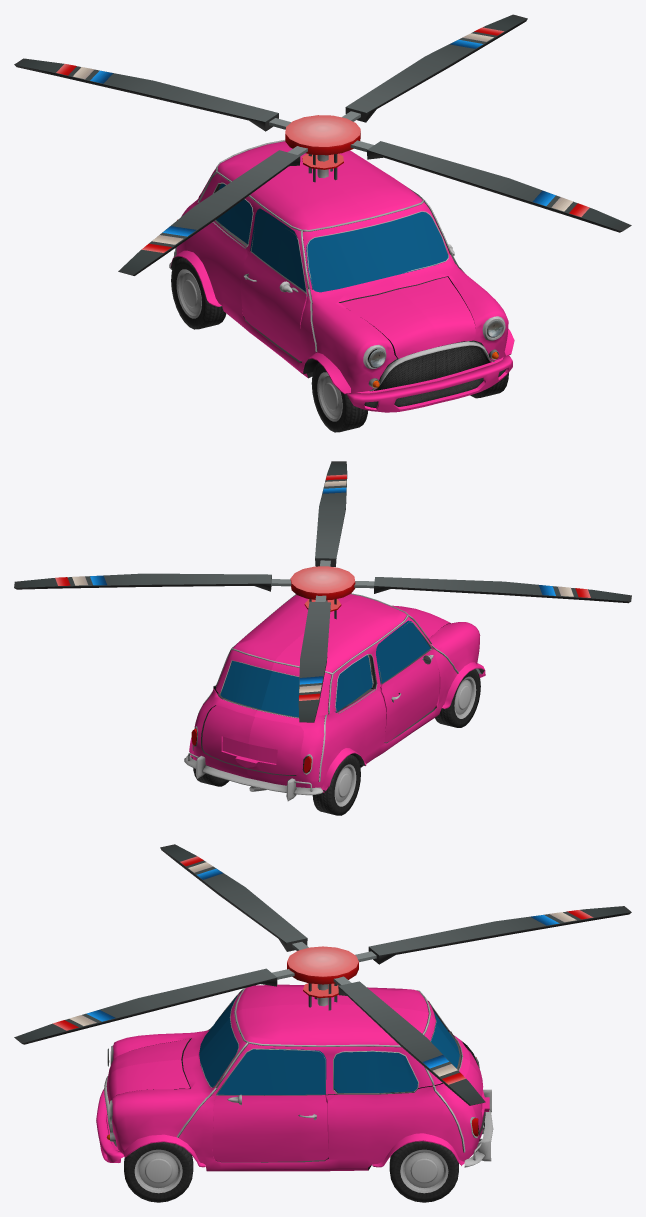
The model's file is Car5.fbx.
3 views of the same model, one above another, from view 1: azimuth 30°, elevation 25°; view 2: azimuth 150°, elevation 25°; view 3: azimuth 270°, elevation 25° (orthographic). The views are drawn at different scales.
Parts seen in each view (by area): view 1: Rotor, Bodyfbx, Roof, Front_Glass_, Hood, Classic_2_Bumper_F_2, Door_1, Classic_2_Glass_FL__1___1_, Tire_3, Tire_2, Metal_3, Classic_2_Glass_RL__1___1_ (+1 smaller); view 2: Rotor, Bodyfbx, Roof, Trunk, Door_1, back_Glass_, Classic_2_Glass_FL__1___1_, BumperB, Classic_2_Glass_RL__1___1_, Tire_3, Tire_2, Metal_3 (+2 smaller); view 3: Bodyfbx, Rotor, Roof, Door, Classic_2_Glass_FL__1_, Hood, Classic_2_Glass_RL__1_, Front_Glass_, Tire_1, Tire, Metal, Metal_1 (+4 smaller).
Part boxes in pixels (<box>): Rotor: <box>14,14,631,275</box>; Bodyfbx: <box>170,199,514,394</box>; Roof: <box>197,140,451,296</box>; Front_Glass_: <box>306,212,448,292</box>; Hood: <box>340,277,475,358</box>; Classic_2_Bumper_F_2: <box>347,345,512,412</box>; Door_1: <box>240,251,306,361</box>; Classic_2_Glass_FL__1___1_: <box>250,208,305,291</box>; Tire_3: <box>171,258,226,329</box>; Tire_2: <box>311,363,368,432</box>; Metal_3: <box>176,269,201,318</box>; Classic_2_Glass_RL__1___1_: <box>216,184,252,244</box>; Rotor: <box>14,461,631,722</box>; Bodyfbx: <box>189,622,484,792</box>; Roof: <box>215,593,433,716</box>; Trunk: <box>202,705,303,775</box>; Door_1: <box>380,649,439,742</box>; back_Glass_: <box>220,661,299,717</box>; Classic_2_Glass_FL__1___1_: <box>376,620,430,684</box>; BumperB: <box>184,753,323,801</box>; Classic_2_Glass_RL__1___1_: <box>335,655,372,712</box>; Tire_3: <box>312,754,360,815</box>; Tire_2: <box>435,669,480,727</box>; Metal_3: <box>334,764,356,806</box>; Bodyfbx: <box>104,1027,485,1171</box>; Rotor: <box>14,844,631,1105</box>; Roof: <box>215,984,449,1095</box>; Door: <box>212,1094,328,1161</box>; Classic_2_Glass_FL__1_: <box>217,1048,326,1094</box>; Hood: <box>106,1038,190,1104</box>; Classic_2_Glass_RL__1_: <box>334,1051,417,1092</box>; Front_Glass_: <box>199,995,238,1087</box>; Tire_1: <box>389,1141,458,1202</box>; Tire: <box>124,1142,193,1202</box>; Metal: <box>134,1149,182,1193</box>; Metal_1: <box>400,1149,448,1193</box>.
Bounding box in the file's own units: 946 × 349 × 946.
